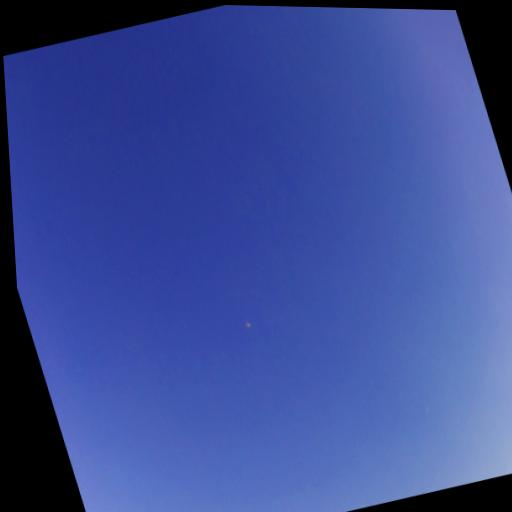drones: (244, 321, 253, 330)
